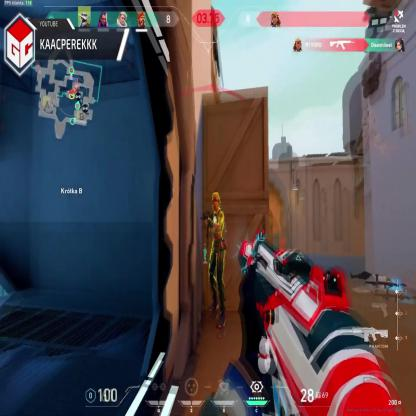enemy: (204, 192, 227, 330)
enemy_head: (212, 192, 220, 211)
